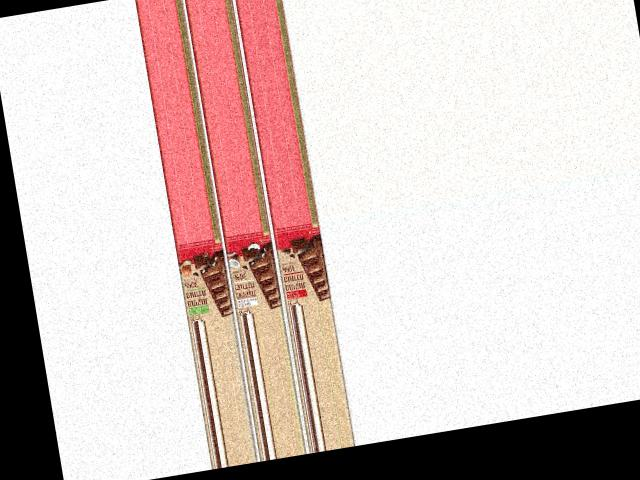chocolate: (173, 237, 232, 323)
